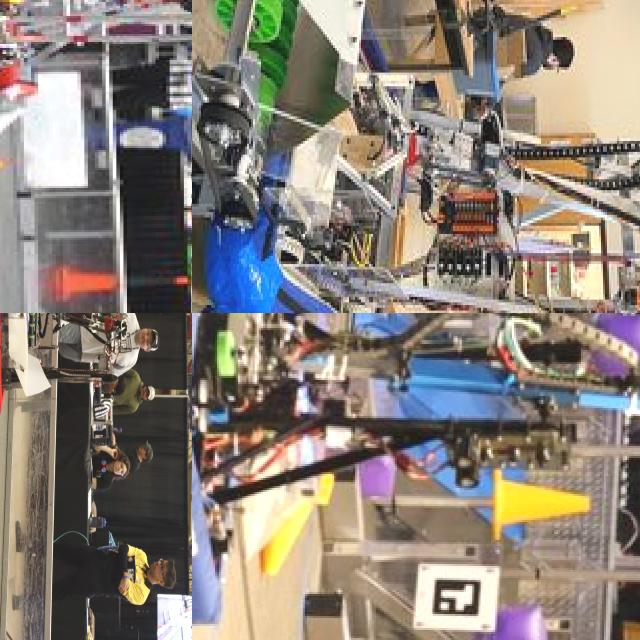FRC-Robots: (192, 313, 640, 629), (192, 0, 640, 313), (0, 313, 127, 462), (0, 0, 192, 88), (0, 0, 106, 122)
